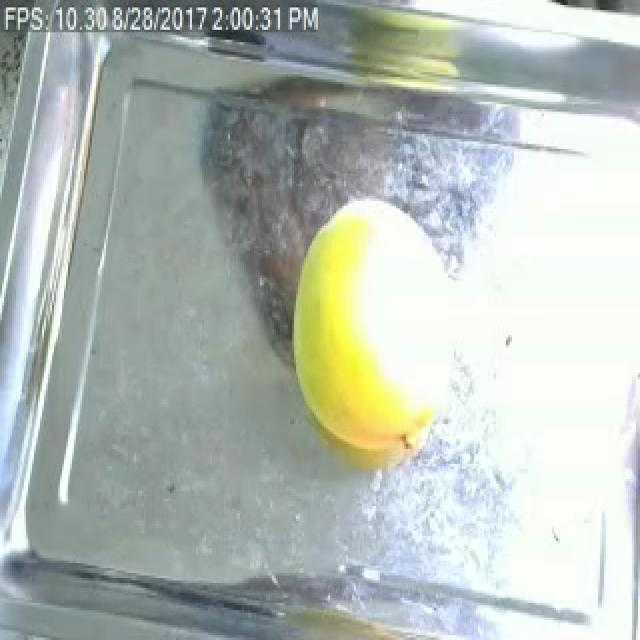fruit: (272, 181, 404, 479)
